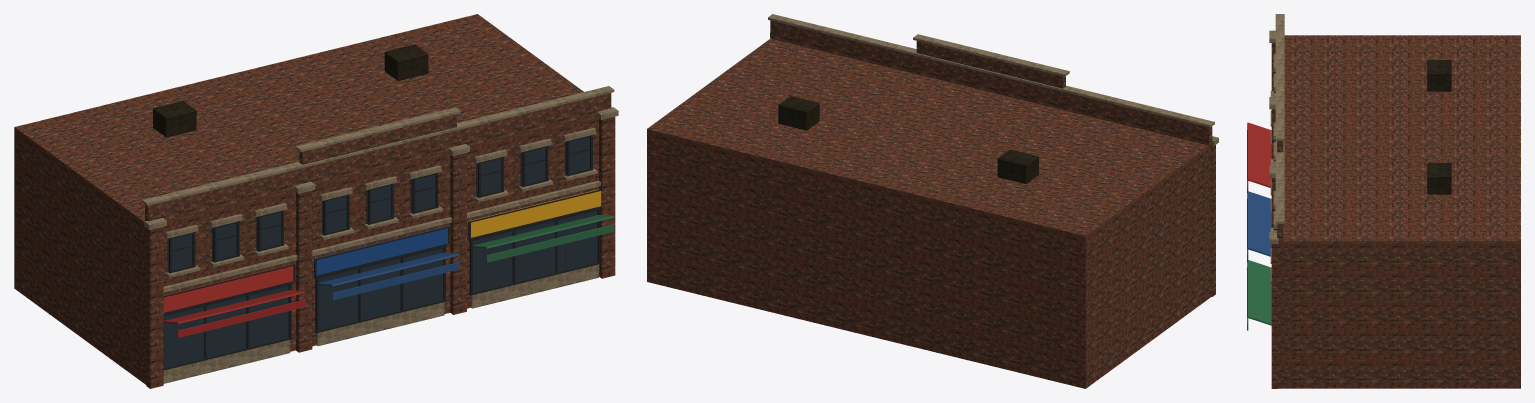
File: OT_Storefront_A.glb
The picture shows the model from 3 angles, left to right: view 1: azimuth 30°, elevation 25°; view 2: azimuth 150°, elevation 25°; view 3: azimuth 270°, elevation 25°; orthographic projection. The views are drawn at different scales.
Parts seen in each view (by area): view 1: OT_Storefront_A_Brick, OT_Storefront_A_Glass__26323c, OT_Storefront_A_Stone, OT_Storefront_A_Frame__202224, OT_Storefront_A_Metal, OT_Storefront_A_SignB__1f4e8c, OT_Storefront_A_SignC__e0a21e, OT_Storefront_A_SignA__b8322a, OT_Storefront_A_AwnRed__9e2a24, OT_Storefront_A_AwnGreen__2f6b45, OT_Storefront_A_AwnBlue__2a4f7e, OT_Storefront_A_Reveal__262626; view 2: OT_Storefront_A_Brick, OT_Storefront_A_Stone, OT_Storefront_A_Metal; view 3: OT_Storefront_A_Brick, OT_Storefront_A_Stone, OT_Storefront_A_Metal, OT_Storefront_A_AwnGreen__2f6b45, OT_Storefront_A_AwnBlue__2a4f7e, OT_Storefront_A_AwnRed__9e2a24.
Boxes of the visible parts, x1,y1,x2,y2 form: OT_Storefront_A_Brick: (14, 14, 615, 388); OT_Storefront_A_Glass__26323c: (164, 137, 597, 367); OT_Storefront_A_Stone: (142, 86, 618, 383); OT_Storefront_A_Frame__202224: (163, 135, 601, 370); OT_Storefront_A_Metal: (153, 44, 428, 137); OT_Storefront_A_SignB__1f4e8c: (314, 227, 447, 275); OT_Storefront_A_SignC__e0a21e: (469, 189, 601, 237); OT_Storefront_A_SignA__b8322a: (163, 264, 293, 312); OT_Storefront_A_AwnRed__9e2a24: (163, 290, 305, 337); OT_Storefront_A_AwnGreen__2f6b45: (472, 215, 614, 262); OT_Storefront_A_AwnBlue__2a4f7e: (317, 252, 459, 300); OT_Storefront_A_Reveal__262626: (167, 141, 566, 272); OT_Storefront_A_Brick: (647, 20, 1215, 388); OT_Storefront_A_Stone: (768, 14, 1218, 145); OT_Storefront_A_Metal: (778, 96, 1038, 183); OT_Storefront_A_Brick: (1271, 35, 1520, 388); OT_Storefront_A_Stone: (1269, 14, 1284, 283); OT_Storefront_A_Metal: (1427, 60, 1451, 194); OT_Storefront_A_AwnGreen__2f6b45: (1247, 260, 1271, 330); OT_Storefront_A_AwnBlue__2a4f7e: (1247, 191, 1271, 261); OT_Storefront_A_AwnRed__9e2a24: (1247, 122, 1271, 192).
Size of the model in its own units: 24.3 by 9.91 by 13.48.
Materials: 12 (3 with a texture image).
